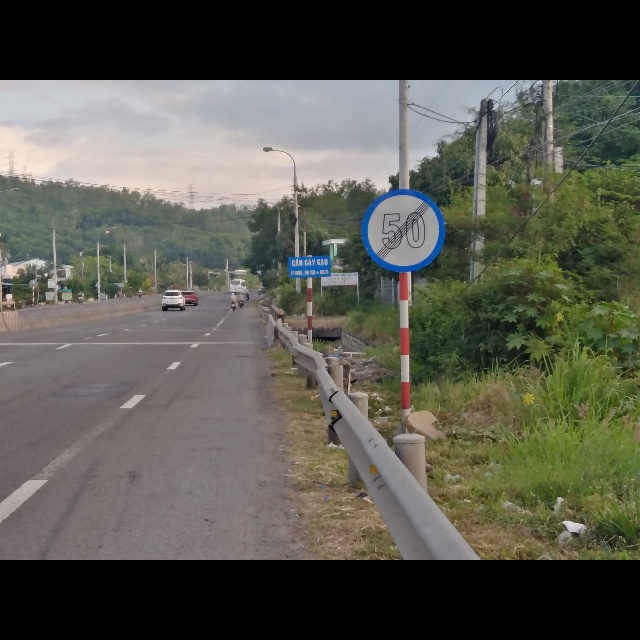Hết hạn chế tốc độ tối đa 50km/h: (362, 188, 449, 276)
